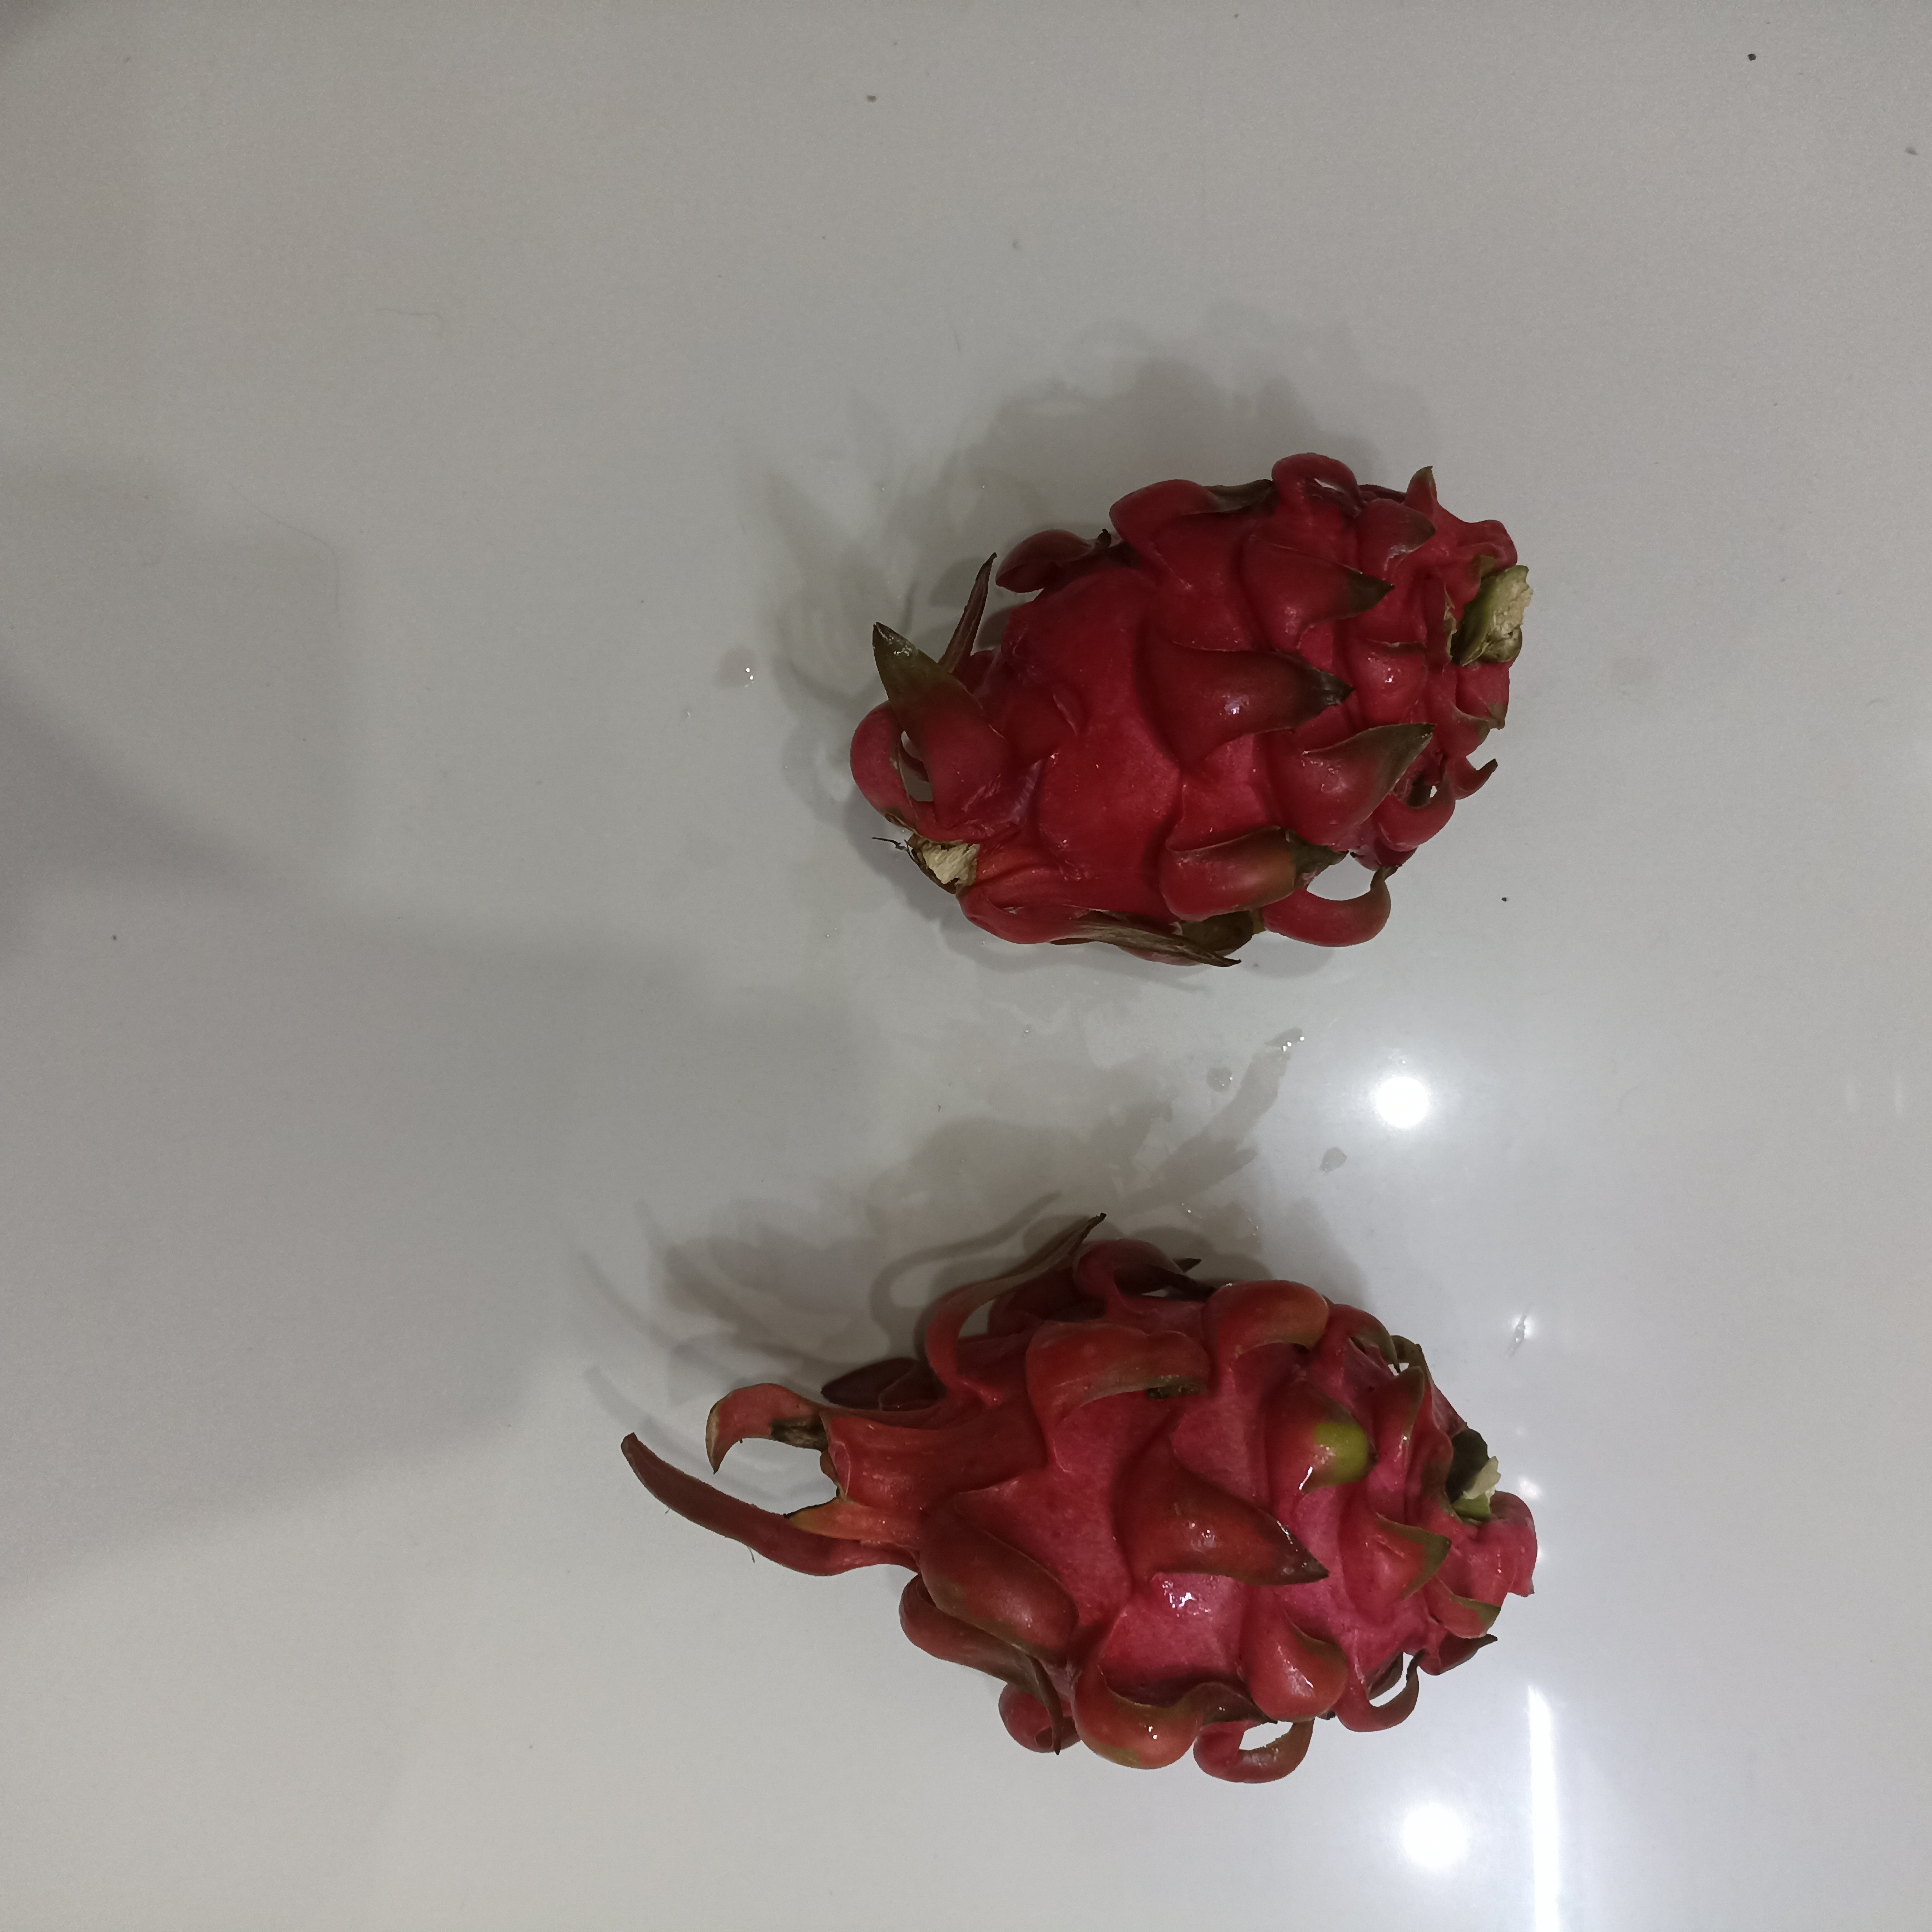Thanh long: (849, 1264, 1515, 1763), (895, 480, 1499, 962)
